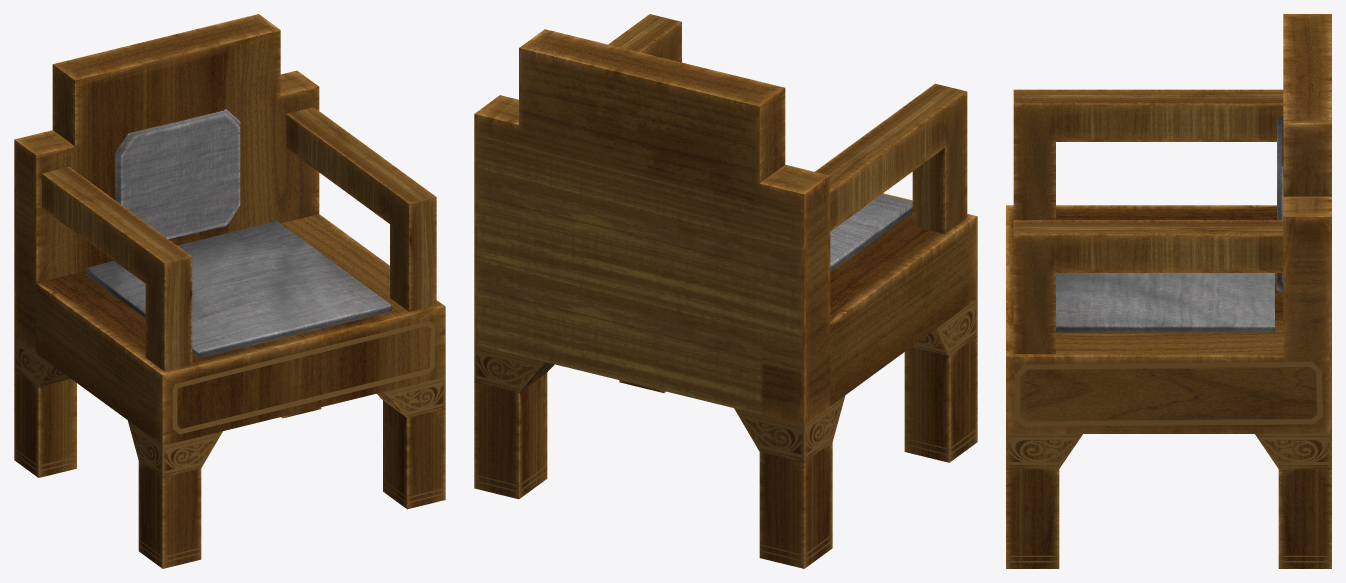
File: Chair_10.FBX
3 views of the same model, side by side, from view 1: azimuth 30°, elevation 25°; view 2: azimuth 150°, elevation 25°; view 3: azimuth 270°, elevation 25° (orthographic). The views are drawn at different scales.
Parts seen in each view (by area): view 1: Chair_10; view 2: Chair_10; view 3: Chair_10.
Boxes of the visible parts, <box> form: Chair_10: <box>14,14,445,568</box>; Chair_10: <box>474,14,977,568</box>; Chair_10: <box>1006,14,1331,568</box>.
Size of the model in its own units: 29.16 by 38.09 by 26.51.
